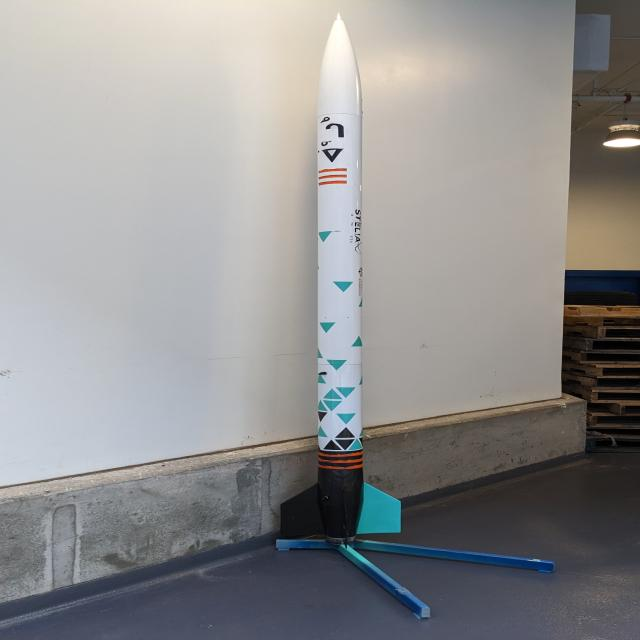Rocket: (280, 13, 401, 549)
